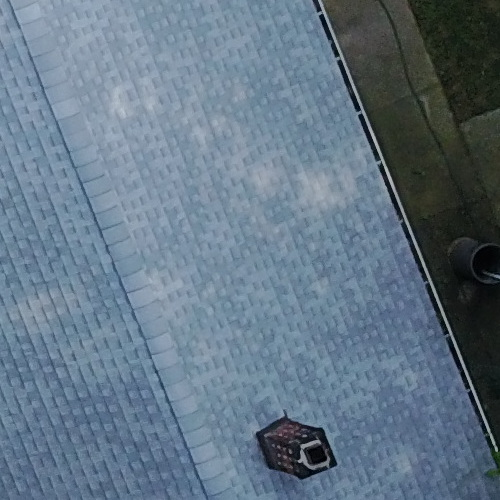trash bin: (437, 220, 500, 302)
